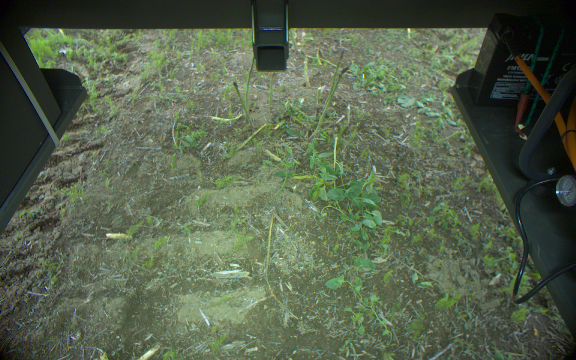aspa: (312, 67, 348, 146), (230, 78, 251, 130), (263, 70, 278, 108), (244, 51, 255, 98), (329, 46, 341, 85), (302, 56, 313, 87), (288, 28, 299, 57)
